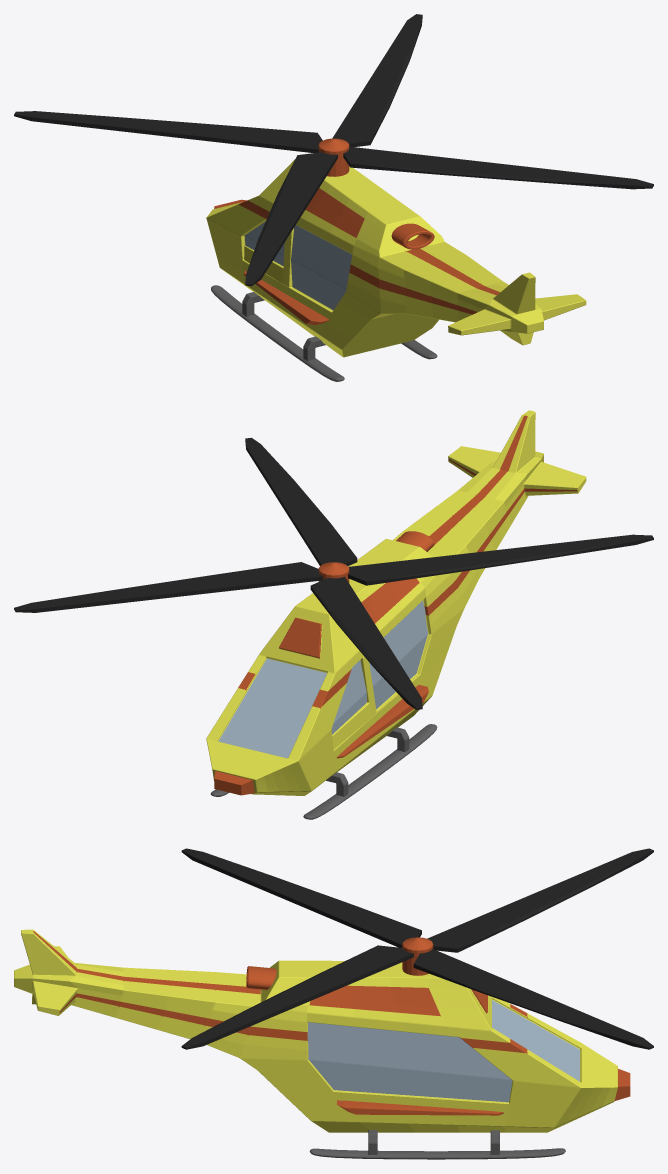
File: helicopter.fbx
3 renders of one model, top to bottom at view 1: azimuth 30°, elevation 25°; view 2: azimuth 150°, elevation 25°; view 3: azimuth 270°, elevation 25°, orthographic.
Visible parts, largest first — view 1: Cube, Cube.003, Cube.004, Cube.006, Cube.005, Cube.001, Cube.009, Cylinder, Cylinder.004; view 2: Cube, Cube.005, Cube.006, Cube.004, Cube.003, Cube.001, Cube.009, Cube.010; view 3: Cube, Cube.005, Cube.003, Cube.004, Cube.006, Cube.002, Cube.009, Cylinder.004, Cylinder.
Boxes of the visible parts, bbox=[...] form: Cube: bbox=[206, 159, 586, 357]; Cube.003: bbox=[343, 146, 653, 189]; Cube.004: bbox=[14, 111, 322, 152]; Cube.006: bbox=[245, 152, 337, 286]; Cube.005: bbox=[332, 14, 422, 146]; Cube.001: bbox=[211, 285, 344, 381]; Cube.009: bbox=[244, 270, 329, 324]; Cylinder: bbox=[391, 223, 434, 249]; Cylinder.004: bbox=[318, 138, 349, 176]; Cube: bbox=[206, 410, 586, 795]; Cube.005: bbox=[14, 562, 323, 612]; Cube.006: bbox=[348, 534, 653, 585]; Cube.004: bbox=[310, 576, 422, 709]; Cube.003: bbox=[245, 437, 357, 565]; Cube.001: bbox=[303, 724, 437, 819]; Cube.009: bbox=[336, 685, 428, 758]; Cube.010: bbox=[214, 771, 254, 795]; Cube: bbox=[14, 929, 617, 1132]; Cube.005: bbox=[413, 949, 653, 1049]; Cube.003: bbox=[181, 945, 413, 1049]; Cube.004: bbox=[427, 848, 653, 952]; Cube.006: bbox=[181, 848, 421, 947]; Cube.002: bbox=[309, 1148, 565, 1159]; Cube.009: bbox=[337, 1100, 503, 1115]; Cylinder.004: bbox=[402, 937, 433, 975]; Cylinder: bbox=[246, 966, 276, 989].
Size of the model in its own units: 886 by 422 by 1201.
